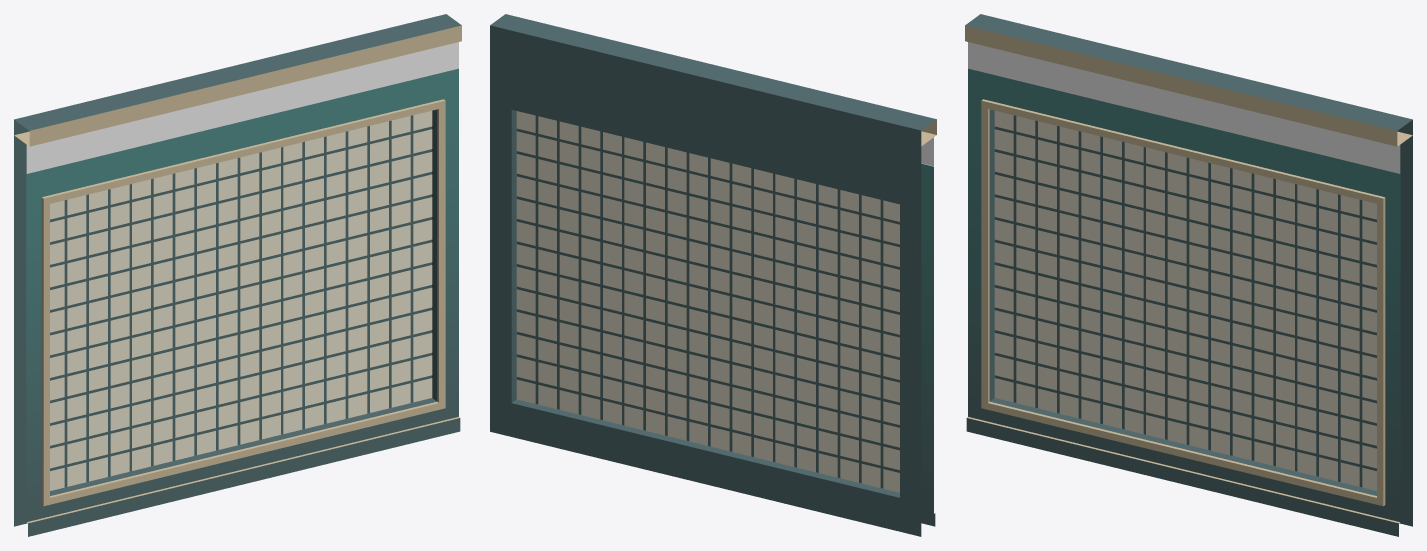
Rendered from KC32__AD_Int_Room_Wall_GlassBlock_Teal.glb.
3 views of the same model, side by side, from view 1: azimuth 30°, elevation 25°; view 2: azimuth 150°, elevation 25°; view 3: azimuth 330°, elevation 25° (orthographic).
Parts seen in each view (by area): view 1: KC32_LUMIERE__AD_Int_Room_Wall_GlassBlock_Teal, KC32_CORPS__AD_Int_Room_Wall_GlassBlock_Teal, KC32_BRONZE__AD_Int_Room_Wall_GlassBlock_Teal, KC32_ACCENT__AD_Int_Room_Wall_GlassBlock_Teal; view 2: KC32_CORPS__AD_Int_Room_Wall_GlassBlock_Teal, KC32_LUMIERE__AD_Int_Room_Wall_GlassBlock_Teal; view 3: KC32_LUMIERE__AD_Int_Room_Wall_GlassBlock_Teal, KC32_CORPS__AD_Int_Room_Wall_GlassBlock_Teal, KC32_BRONZE__AD_Int_Room_Wall_GlassBlock_Teal, KC32_ACCENT__AD_Int_Room_Wall_GlassBlock_Teal.
Part boxes in pixels (left/top/right/bottom): KC32_LUMIERE__AD_Int_Room_Wall_GlassBlock_Teal: left=50, top=110, right=432, bottom=490; KC32_CORPS__AD_Int_Room_Wall_GlassBlock_Teal: left=14, top=14, right=461, bottom=536; KC32_BRONZE__AD_Int_Room_Wall_GlassBlock_Teal: left=14, top=25, right=461, bottom=523; KC32_ACCENT__AD_Int_Room_Wall_GlassBlock_Teal: left=26, top=42, right=458, bottom=173; KC32_CORPS__AD_Int_Room_Wall_GlassBlock_Teal: left=490, top=14, right=936, bottom=536; KC32_LUMIERE__AD_Int_Room_Wall_GlassBlock_Teal: left=516, top=111, right=899, bottom=492; KC32_LUMIERE__AD_Int_Room_Wall_GlassBlock_Teal: left=994, top=110, right=1376, bottom=490; KC32_CORPS__AD_Int_Room_Wall_GlassBlock_Teal: left=965, top=14, right=1412, bottom=536; KC32_BRONZE__AD_Int_Room_Wall_GlassBlock_Teal: left=965, top=25, right=1412, bottom=523; KC32_ACCENT__AD_Int_Room_Wall_GlassBlock_Teal: left=968, top=42, right=1400, bottom=173.
Size of the model in its own units: 4 by 3.6 by 0.25.
